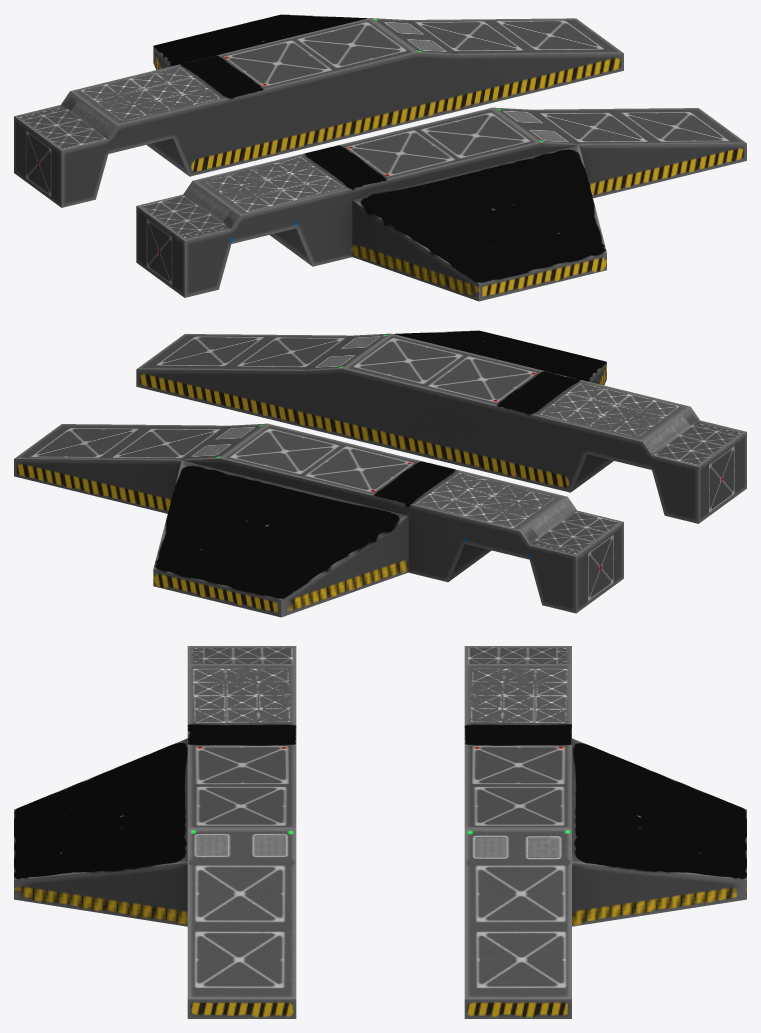
The model's file is Ground_RocketStand001.fbx.
3 renders of one model, top to bottom at view 1: azimuth 30°, elevation 25°; view 2: azimuth 150°, elevation 25°; view 3: azimuth 270°, elevation 25°, orthographic. The views are drawn at different scales.
Parts seen in each view (by area): view 1: Box001; view 2: Box001; view 3: Box001.
Part boxes in pixels (x1=…): Box001: x1=14, y1=14, x2=746, y2=301; Box001: x1=14, y1=330, x2=746, y2=617; Box001: x1=14, y1=646, x2=746, y2=1018.
Size of the model in its own units: 46.49 by 5.39 by 46.64.
